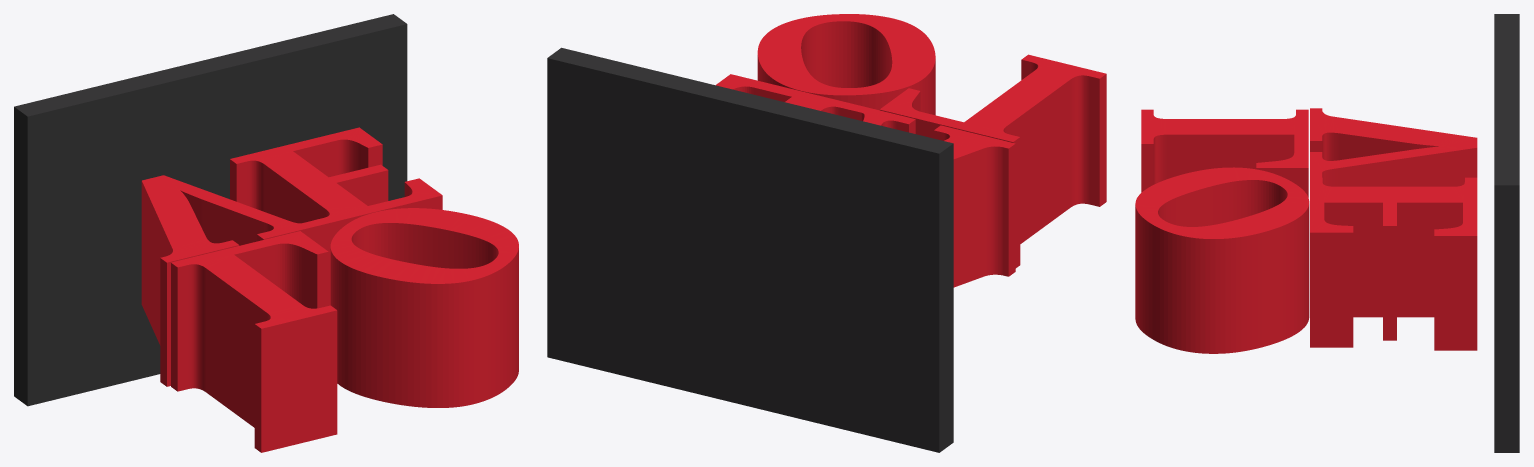
The model's file is tinker.obj.
3 views of the same model, side by side, from view 1: azimuth 30°, elevation 25°; view 2: azimuth 150°, elevation 25°; view 3: azimuth 270°, elevation 25° (orthographic). The views are drawn at different scales.
Parts seen in each view (by area): view 1: group_0_15277357, group_0_3355187; view 2: group_0_3355187, group_0_15277357; view 3: group_0_15277357, group_0_3355187.
Boxes of the visible parts, <box> form: group_0_15277357: <box>141,127,518,452</box>; group_0_3355187: <box>14,14,407,406</box>; group_0_3355187: <box>547,47,953,452</box>; group_0_15277357: <box>716,14,1106,287</box>; group_0_15277357: <box>1135,108,1477,353</box>; group_0_3355187: <box>1494,14,1519,452</box>.
Size of the model in its own units: 48 by 35 by 45.51.
